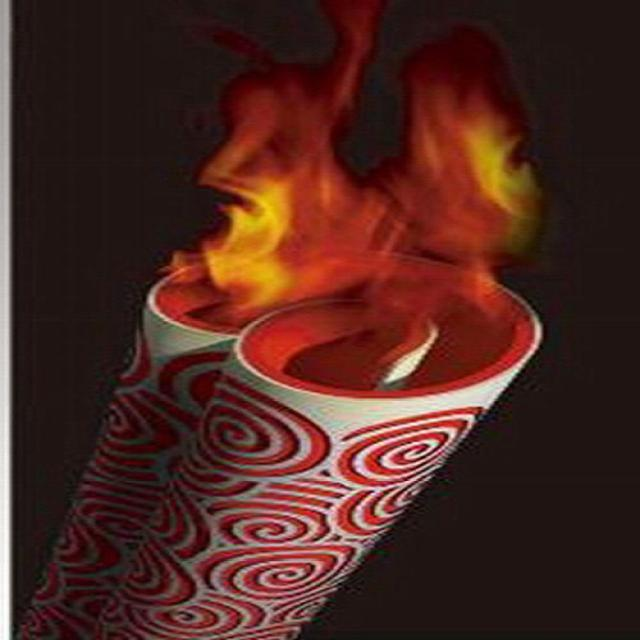Fire: (157, 1, 548, 335)
